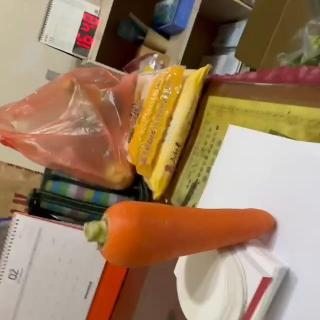carrot: (85, 199, 279, 269)
